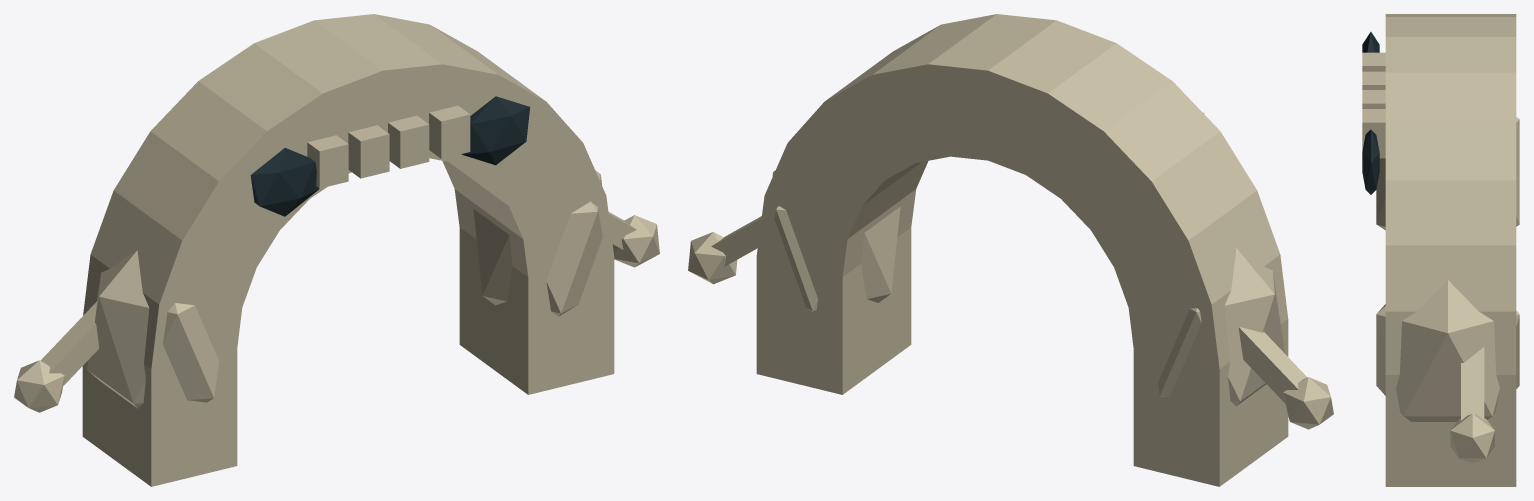
File: PirateCove_SkullArch_Standard.glb
3 views of the same model, side by side, from view 1: azimuth 30°, elevation 25°; view 2: azimuth 150°, elevation 25°; view 3: azimuth 270°, elevation 25° (orthographic). The views are drawn at different scales.
Parts seen in each view (by area): view 1: PirateCove_SkullArch_Standard; view 2: PirateCove_SkullArch_Standard; view 3: PirateCove_SkullArch_Standard.
Part boxes in pixels (bbox=[...]): PirateCove_SkullArch_Standard: bbox=[14, 14, 659, 486]; PirateCove_SkullArch_Standard: bbox=[688, 14, 1333, 486]; PirateCove_SkullArch_Standard: bbox=[1362, 14, 1519, 486].
Size of the model in its own units: 4.84 by 2.6 by 1.08.
